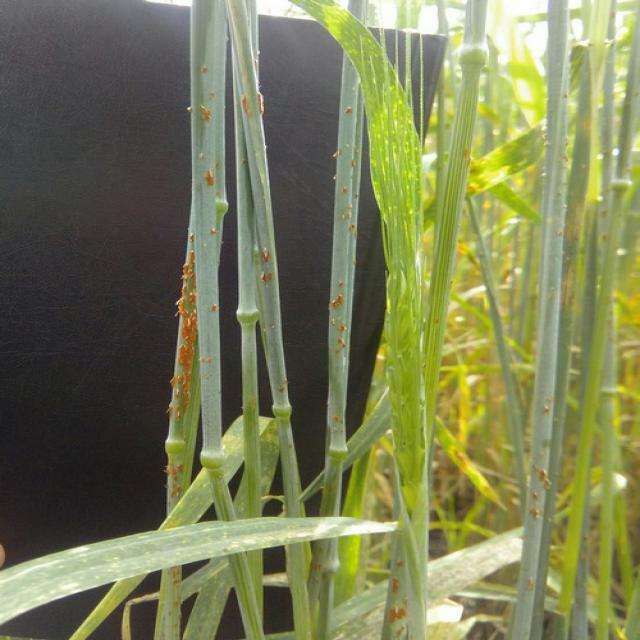wheat-stemrust: (166, 0, 229, 479), (230, 0, 289, 415), (329, 54, 360, 437)
